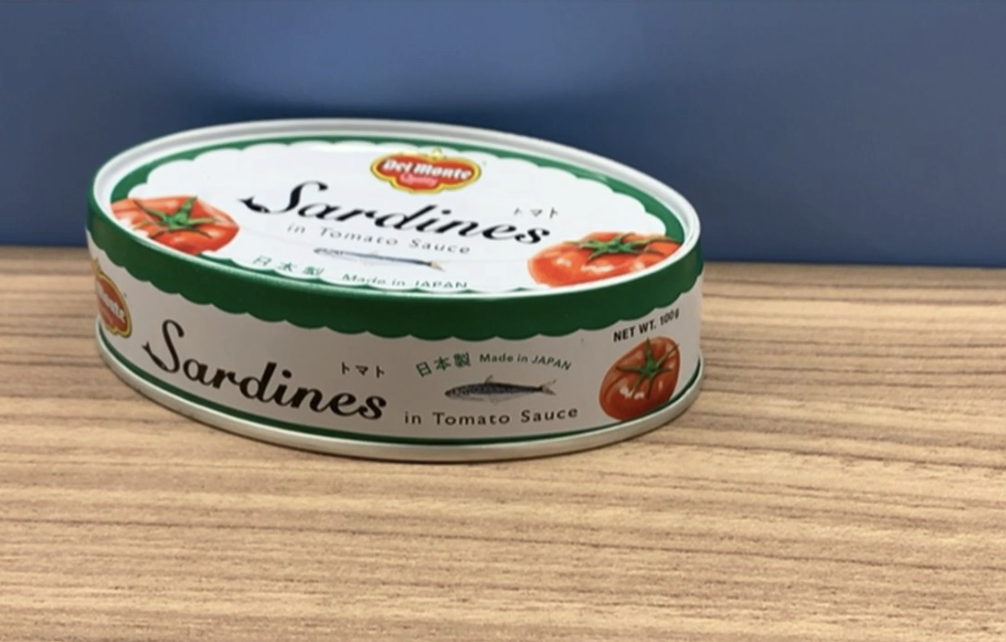sardines_150g: (110, 153, 672, 427)
